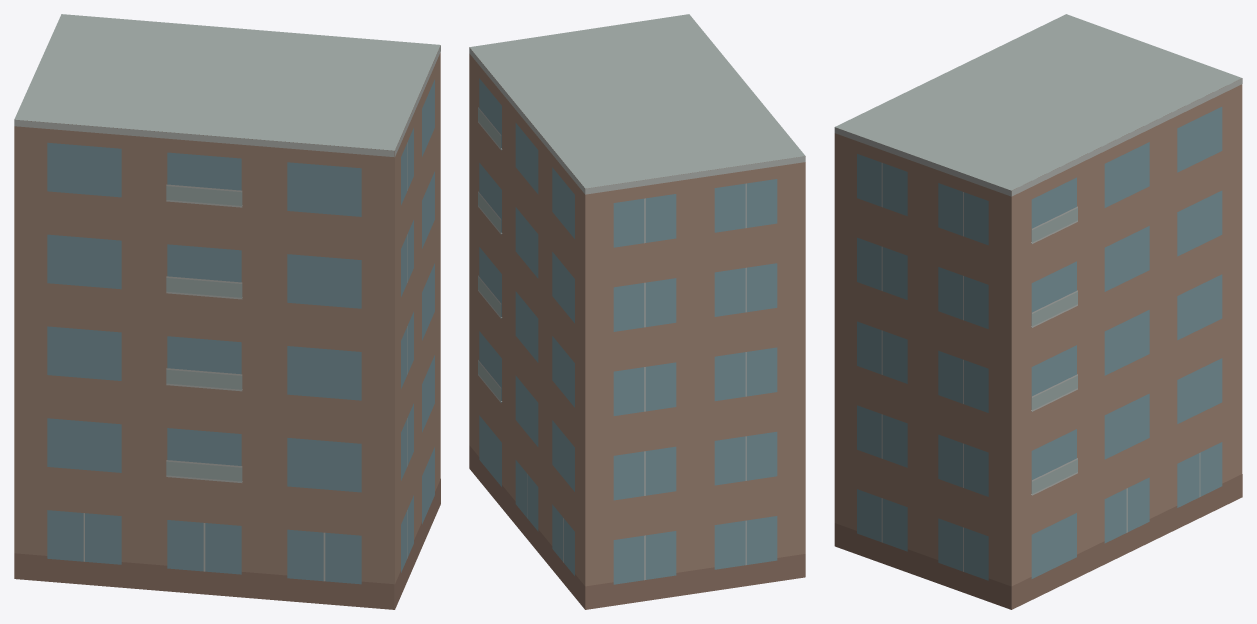
File: survey-upis-32850336.glb
3 views of the same model, side by side, from view 1: azimuth 30°, elevation 25°; view 2: azimuth 150°, elevation 25°; view 3: azimuth 270°, elevation 25° (orthographic). The views are drawn at different scales.
Visible parts, largest first — view 1: survey-upis-32850336.tmp; view 2: survey-upis-32850336.tmp; view 3: survey-upis-32850336.tmp.
Boxes of the visible parts, x1,y1,x2,y2 form: survey-upis-32850336.tmp: (14,14,440,609); survey-upis-32850336.tmp: (469,14,805,609); survey-upis-32850336.tmp: (834,14,1242,609).
Size of the model in its own units: 15.42 by 17.05 by 15.04.
